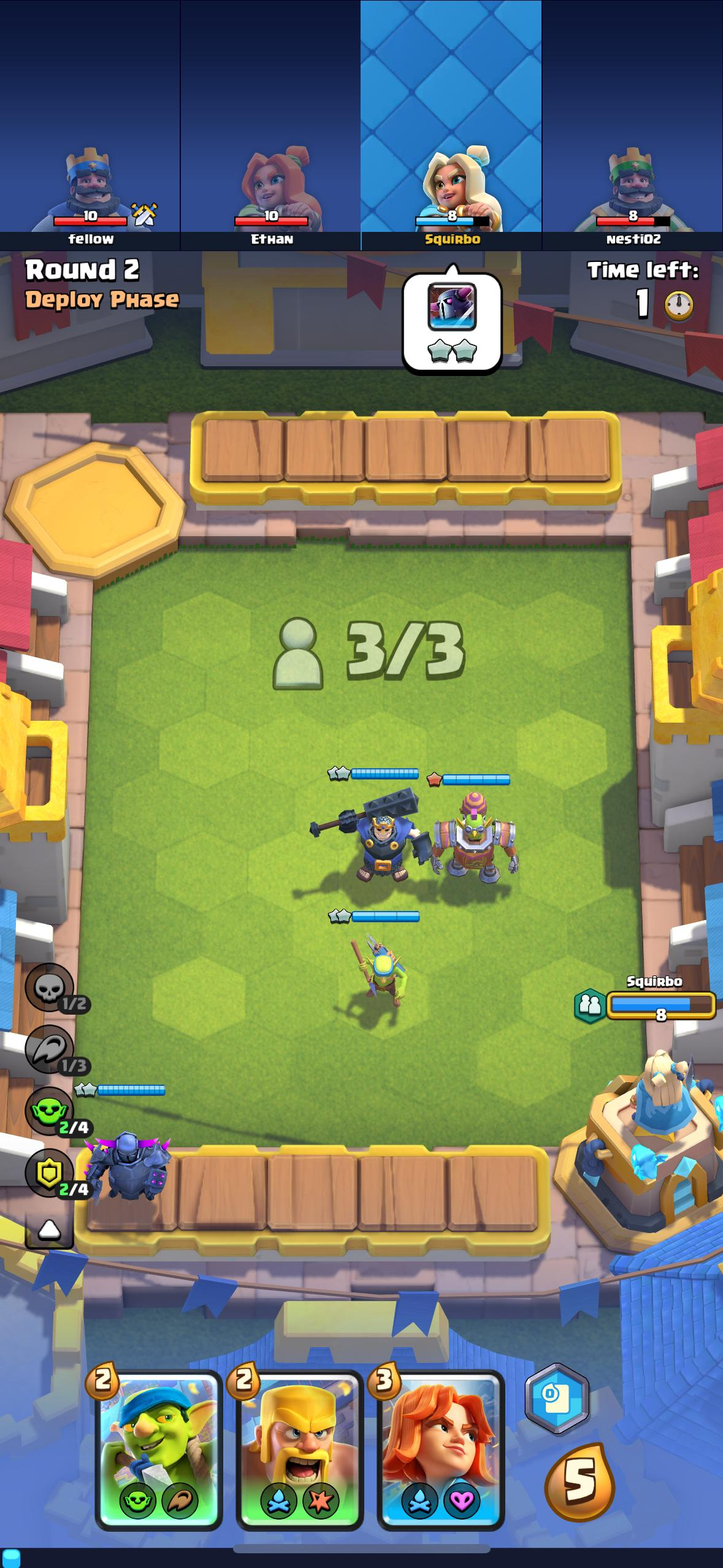hand-barbarian: (238, 1371, 362, 1528)
hand-spear: (96, 1372, 220, 1523)
hand-valkyrie: (380, 1375, 502, 1523)
king: (301, 780, 436, 881)
machine: (425, 789, 521, 888)
pekka: (80, 1125, 179, 1205)
spear: (337, 920, 421, 1015)
